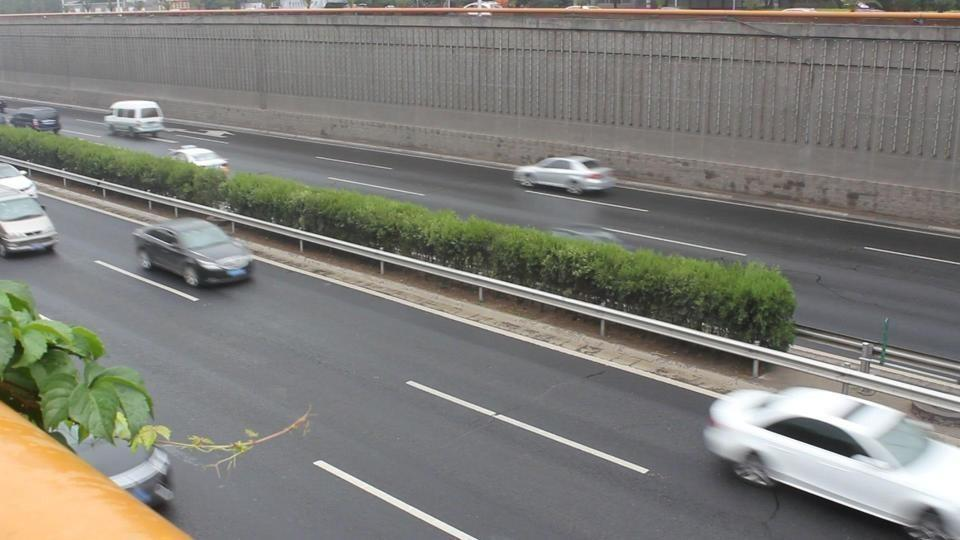car: (702, 386, 959, 536), (131, 219, 258, 287), (0, 182, 60, 258), (513, 156, 617, 196), (103, 99, 164, 137), (1, 101, 62, 133), (166, 144, 231, 174), (0, 163, 38, 197)
